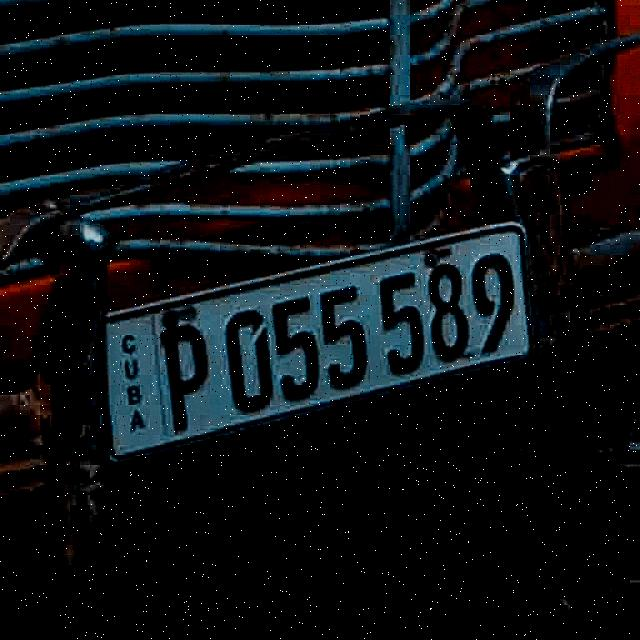licenseplate: (94, 210, 564, 456)
